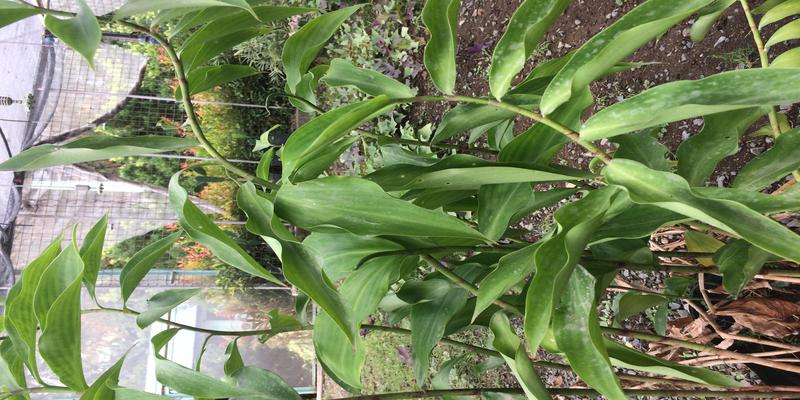Insulin: (217, 117, 755, 392)
